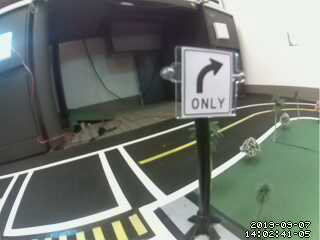Right_only_sign: (182, 46, 231, 115)
